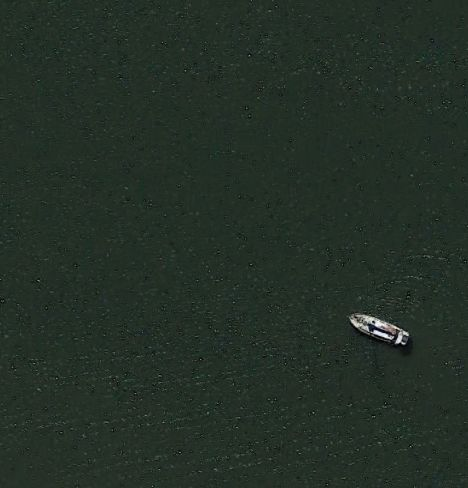boat: (348, 311, 410, 348)
